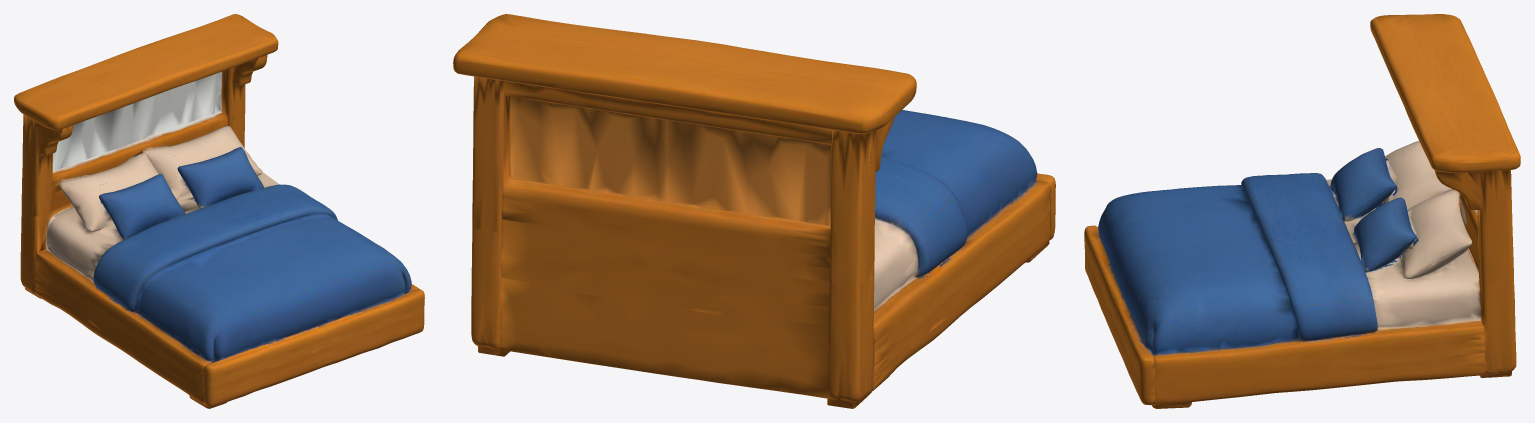
Rendered from bed_double.glb.
3 views of the same model, side by side, from view 1: azimuth 30°, elevation 25°; view 2: azimuth 150°, elevation 25°; view 3: azimuth 270°, elevation 25° (orthographic). The views are drawn at different scales.
Visible parts, largest first — view 1: bed_double; view 2: bed_double; view 3: bed_double.
Boxes of the visible parts, bbox=[...] form: bed_double: bbox=[14, 14, 424, 408]; bed_double: bbox=[453, 14, 1055, 408]; bed_double: bbox=[1084, 14, 1520, 408].
Bounding box in the file's own units: 1.79 × 1.3 × 2.1.
1 material, 1 textured.
